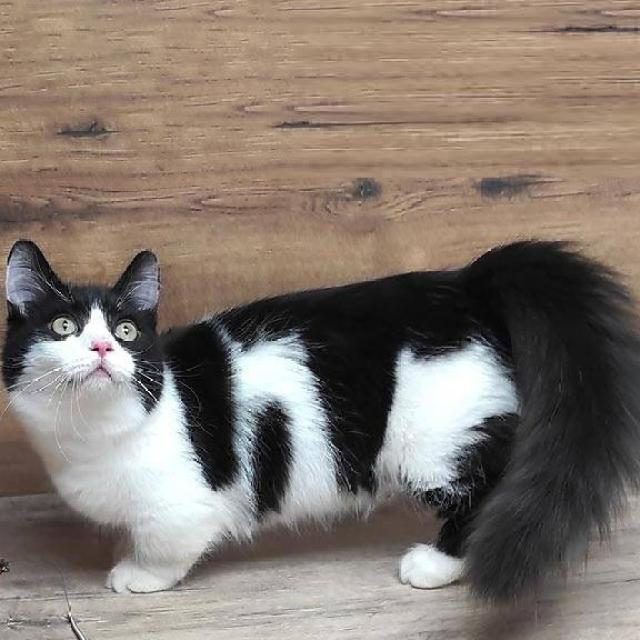Munchkin: (0, 234, 640, 606)
